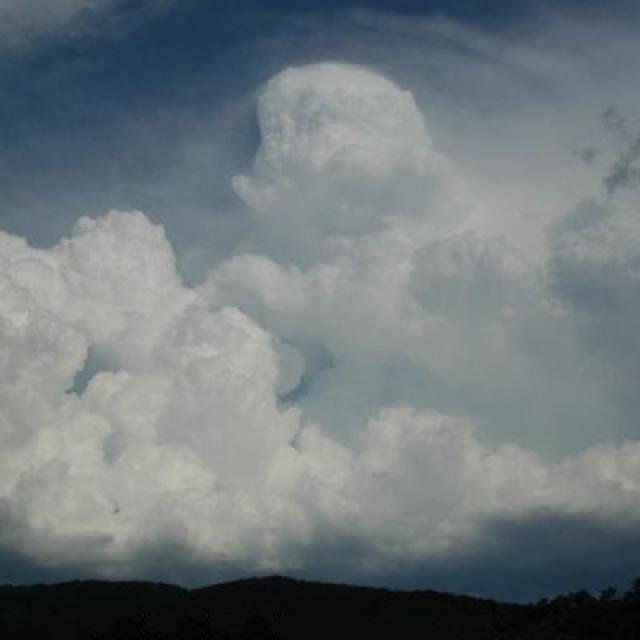Cb: (15, 54, 604, 556)
